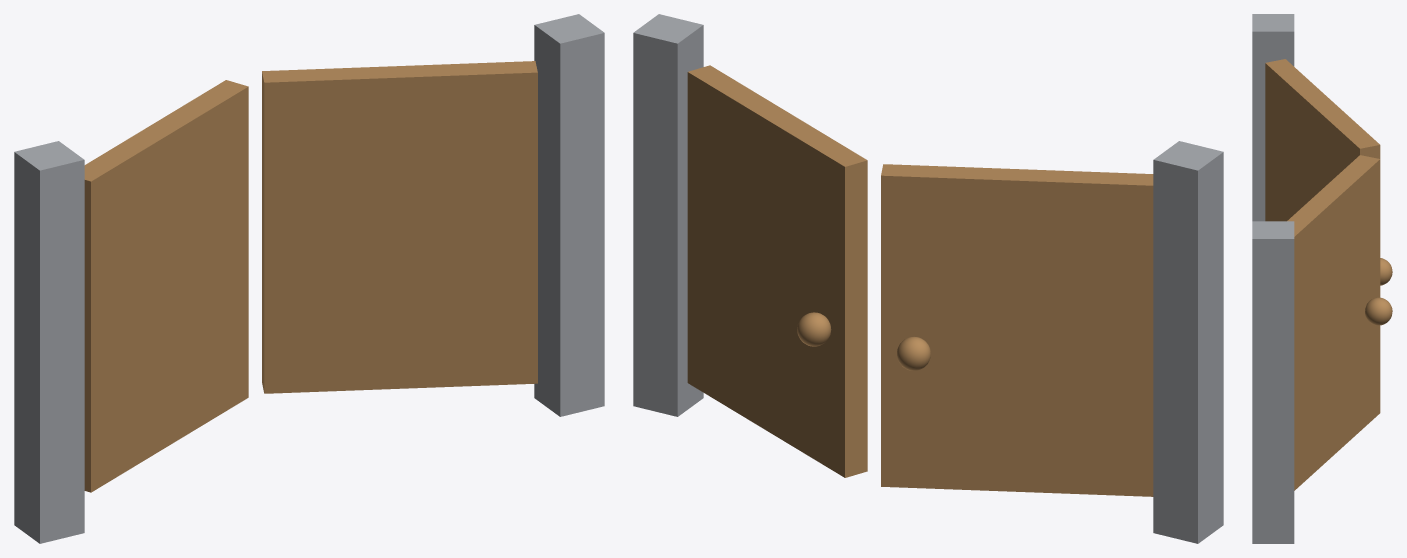
Rendered from asm_mirror.glb.
3 renders of one model, left to right at view 1: azimuth 30°, elevation 25°; view 2: azimuth 150°, elevation 25°; view 3: azimuth 270°, elevation 25°, orthographic. The views are drawn at different scales.
Visible parts, largest first — view 1: knob, post; view 2: knob, post; view 3: knob, post.
Boxes of the visible parts, bbox=[...] form: knob: bbox=[84, 61, 537, 492]; post: bbox=[14, 14, 604, 543]; knob: bbox=[687, 65, 1153, 496]; post: bbox=[633, 14, 1223, 543]; knob: bbox=[1265, 59, 1392, 490]; post: bbox=[1252, 14, 1294, 543].
Size of the model in its own units: 0.19 by 0.12 by 0.05.
